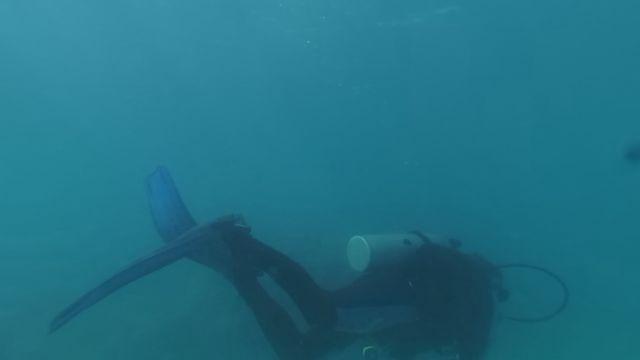Diver: (36, 161, 512, 354)
Hand: (460, 250, 511, 303)
